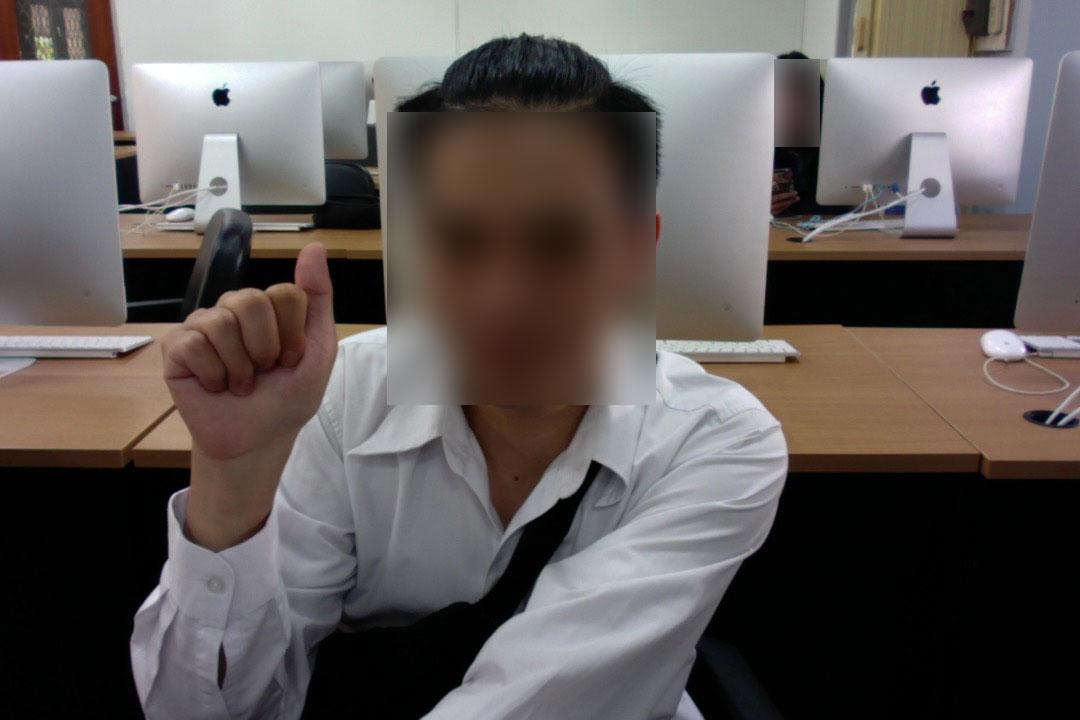or: (152, 238, 348, 475)
